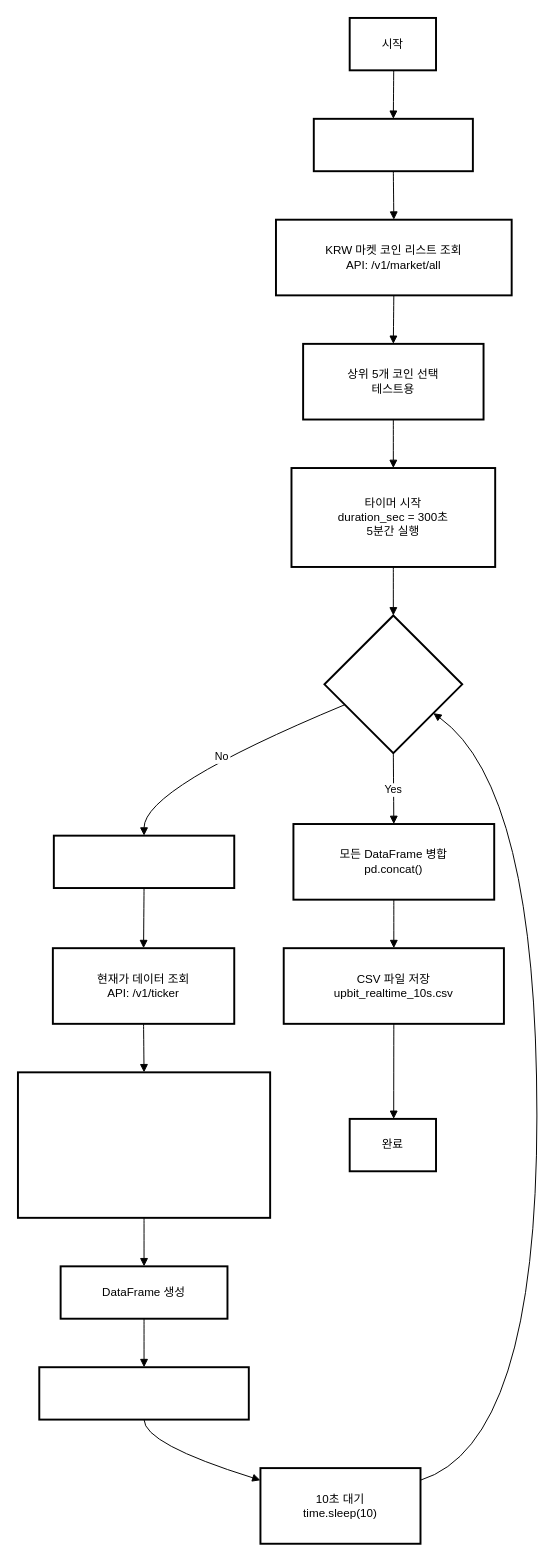
Some shapes in this 554 by 1561 pixel diagram are drawn without their labels. The shapes that lost their labels are listed below. From the top down, each one's centre as x and y in pixels, then its label:
the point at 392,144: get_coin_list()
the point at 393,684: 시간 체크 10분 경과?
the point at 143,861: get_ticker_data()
the point at 143,1144: 데이터 파싱 timestamp, market, trade_price change_rate, acc_trade_volume
the point at 143,1393: all_data 리스트에 추가
